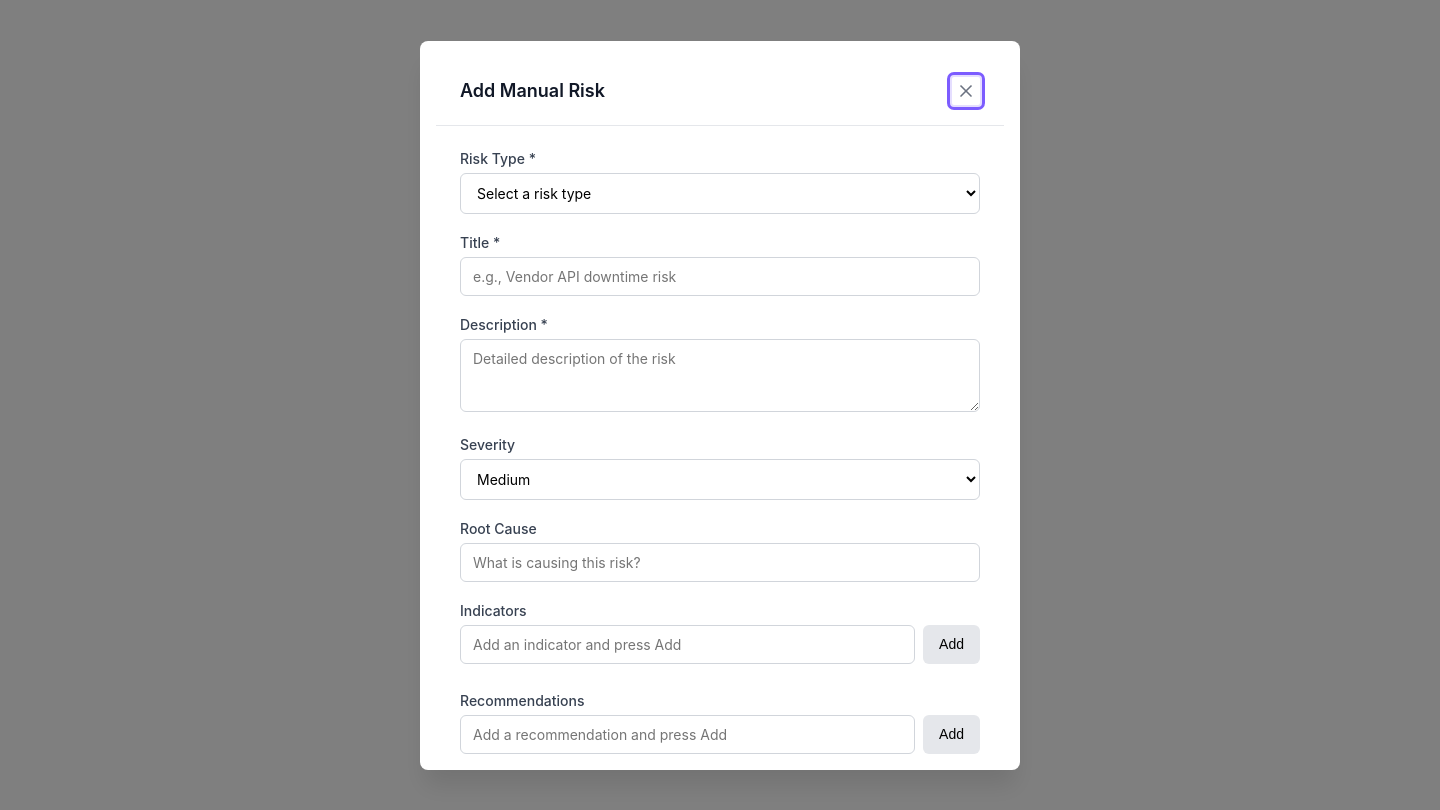
ManualRiskForm Component › Add Mode › should remove indicators
Type "Test Indicator" into the field with placeholder "Add an indicator and press Add" at (688, 644), box [460,624,915,664]
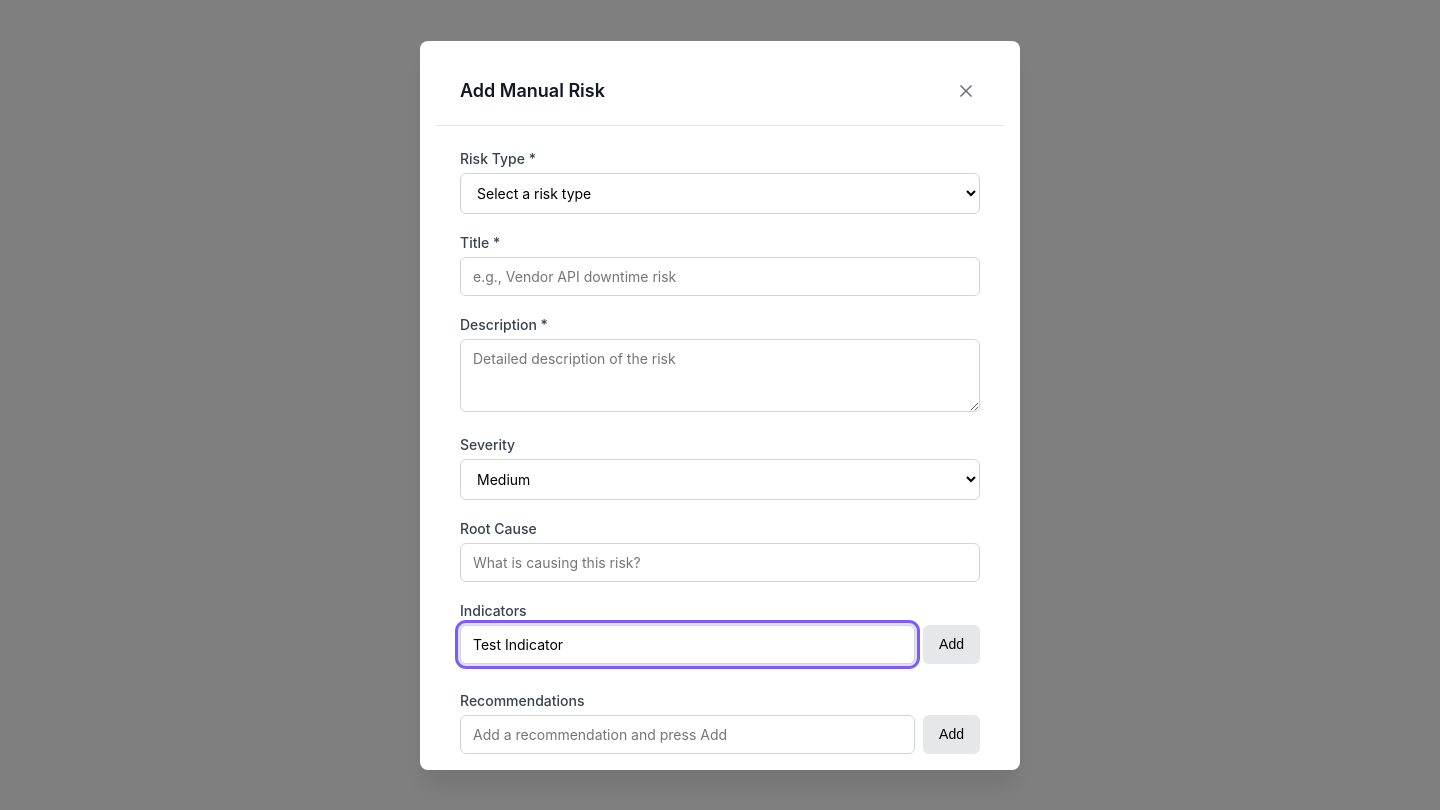
Click the 1st button "Add" at (952, 644), box [923,624,980,664]
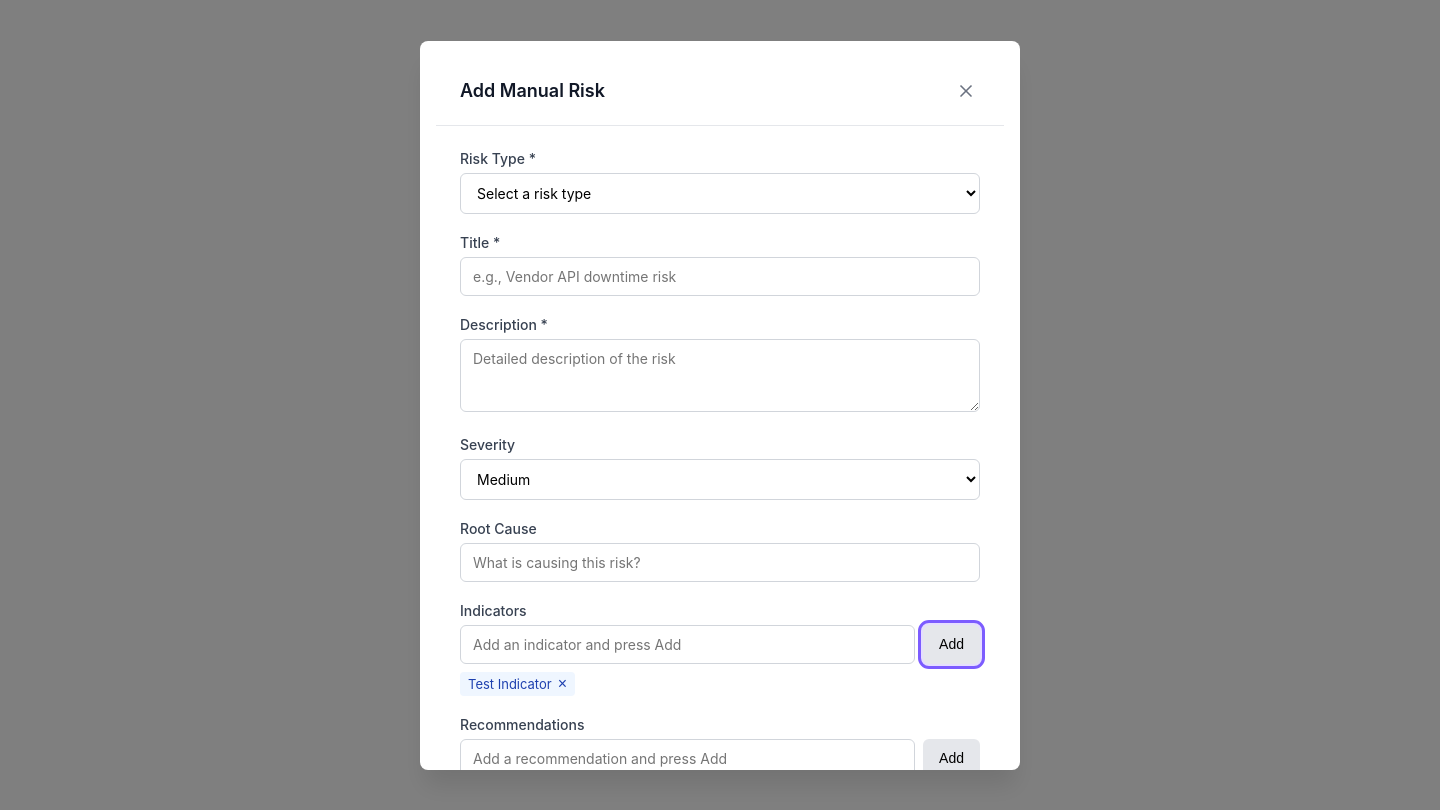
Click the button "×" at (562, 684), box [558,676,567,692]
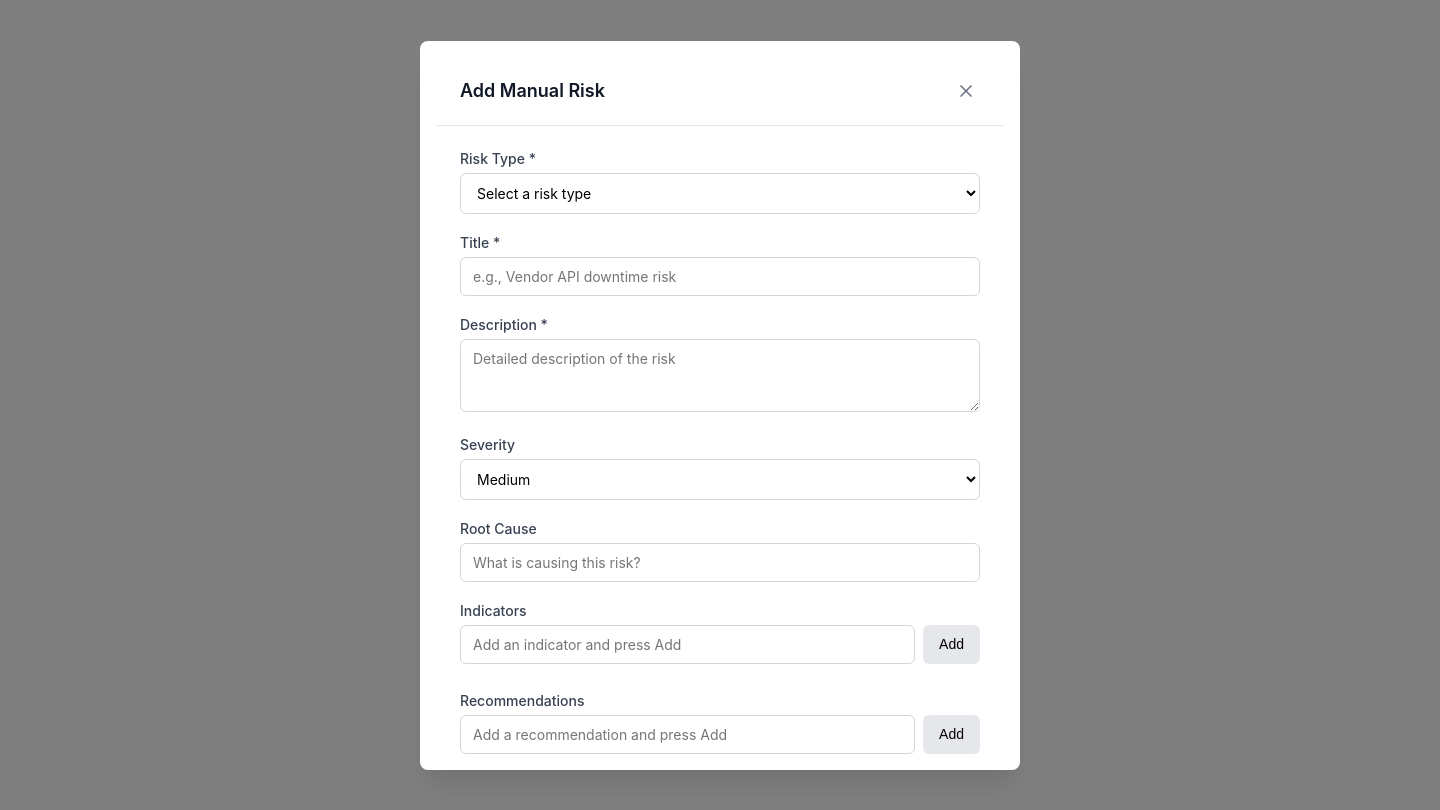
Now the text "Test Indicator" is gone
